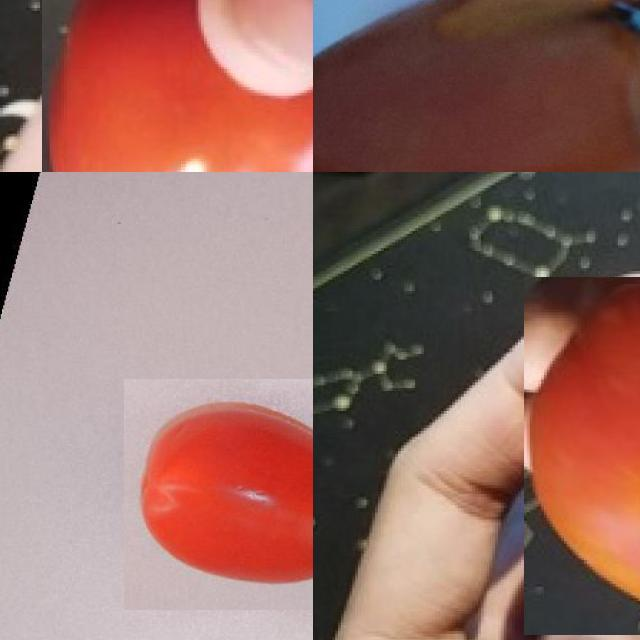Fresh Tomato: (42, 0, 313, 172), (124, 379, 313, 610), (524, 277, 640, 634)
Rotten Tomato: (313, 0, 640, 172)
